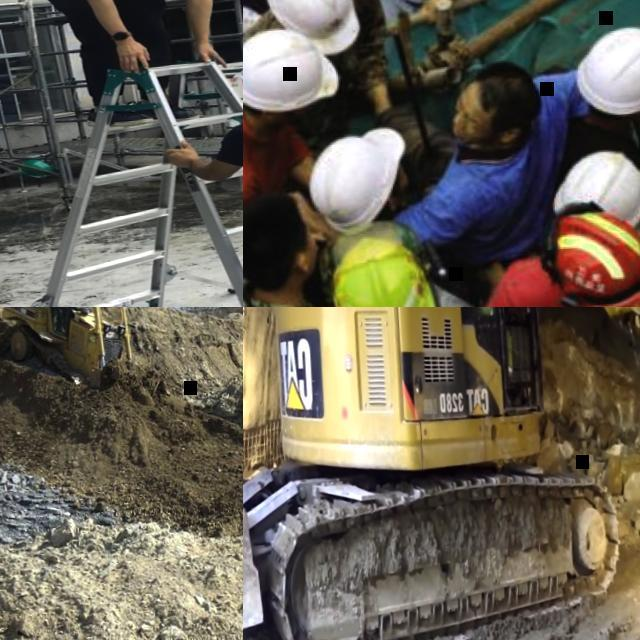Helmet: (303, 115, 423, 249), (538, 203, 640, 308), (236, 31, 367, 109), (554, 143, 640, 234), (573, 15, 640, 123), (272, 0, 367, 56)
Robbery: (47, 1, 227, 98), (437, 58, 545, 210), (166, 119, 244, 224)
